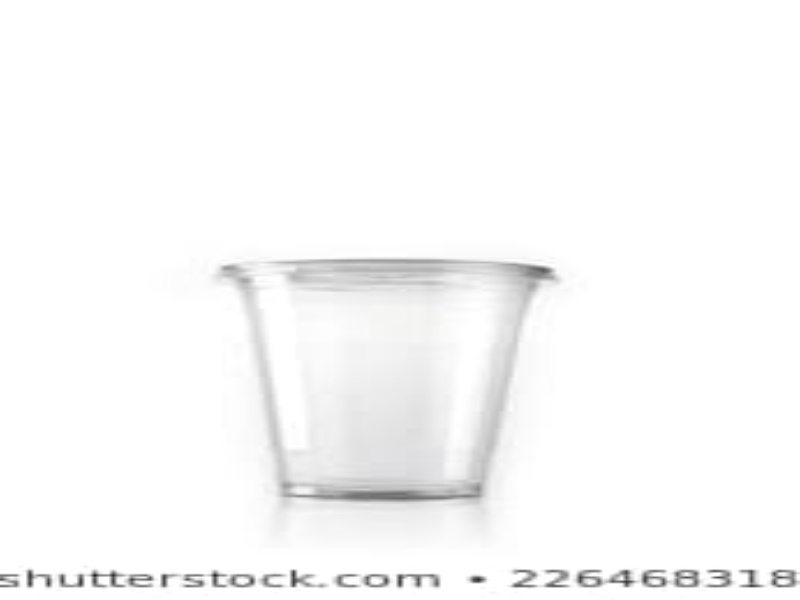plastic-cup: (215, 259, 561, 498)
